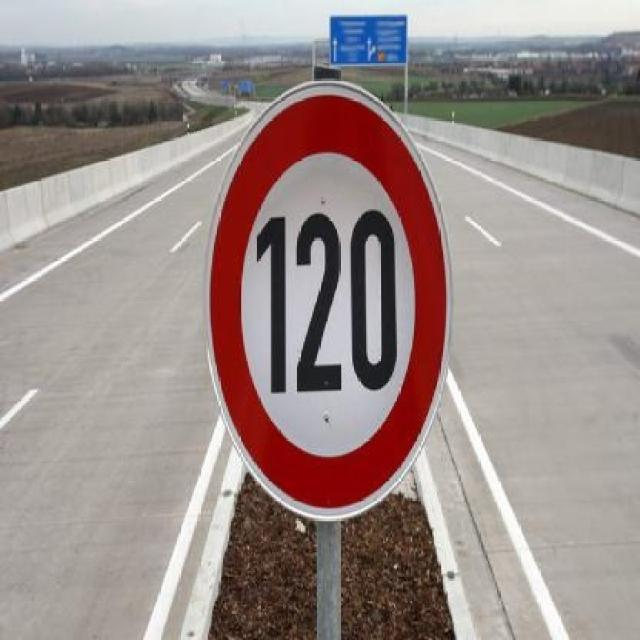forb_speed_over_120: (220, 92, 448, 517)
